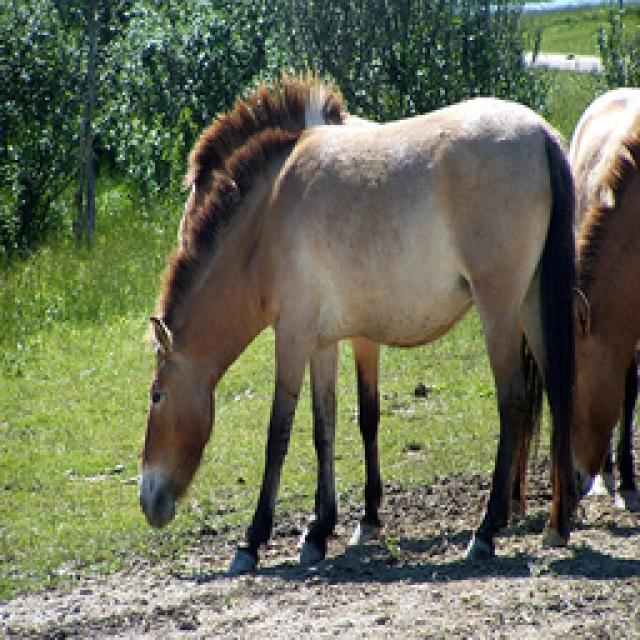Horse: (142, 81, 574, 583)
